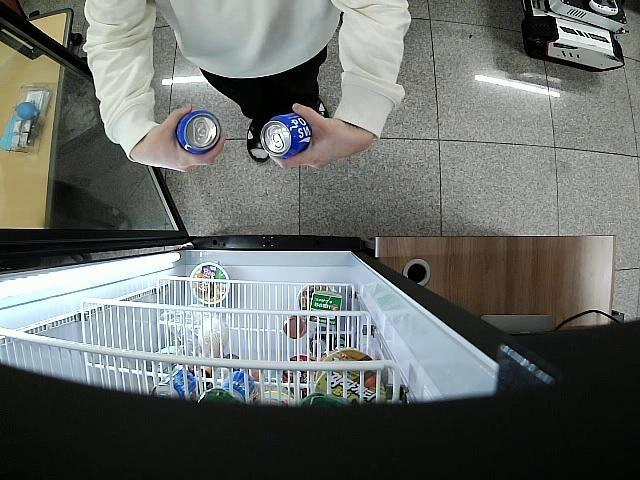13_pocariSweat: (260, 112, 313, 160), (173, 110, 220, 154)
